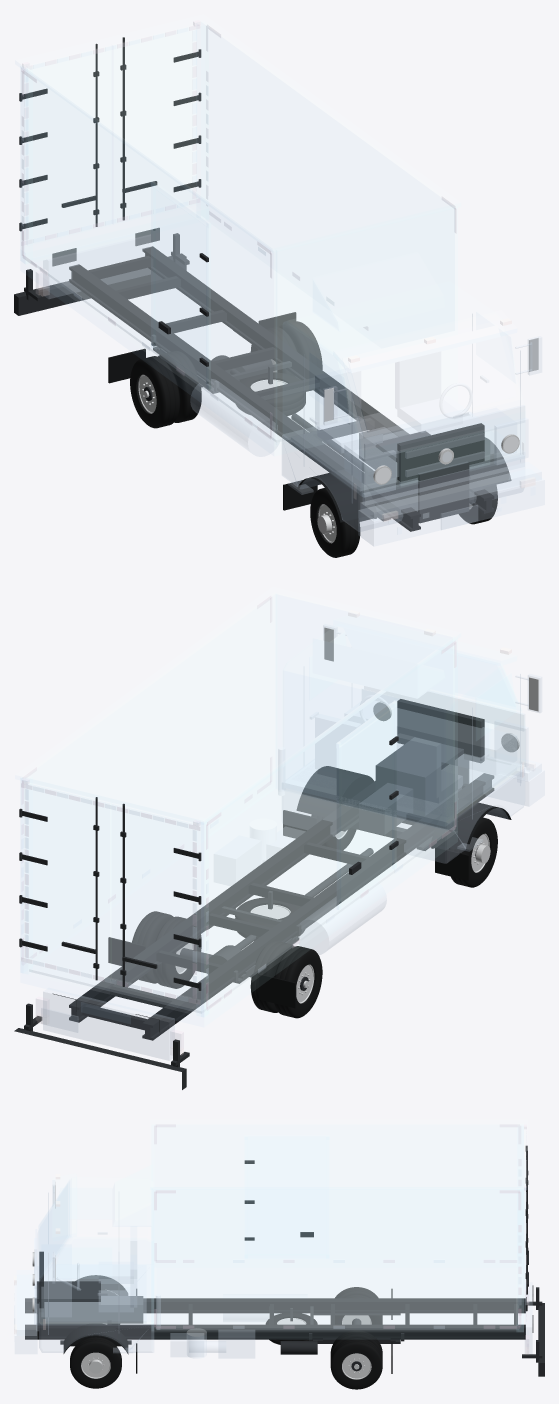
The model's file is vw_delivery_hag_raiox.glb.
3 views of the same model, one above another, from view 1: azimuth 30°, elevation 25°; view 2: azimuth 150°, elevation 25°; view 3: azimuth 270°, elevation 25° (orthographic). The views are drawn at different scales.
Visible parts, largest first — view 1: Floor, Cab_Skirt, Rail_Flange_Top (×2), Tire (×5), Front_Bumper, Seat_Back (×2), Rail_Web (×2), Engine, Dashboard, Front_Bumper_Lip, Crossmember (×5), Radiator (+12 smaller); view 2: Floor, Cab_Skirt, Rail_Flange_Top (×2), Tire (×6), Rear_Panel, Engine, Dashboard, Crossmember (×6), Rail_Web (×2), Wheel_Arch_Liner (×2), Seat_Back (×2), Radiator (+12 smaller); view 3: Floor, Cab_Skirt, Rail_Flange_Top (×2), Rail_Web (×2), Tire (×4), Cab_Floor, Rail_Flange_Bottom (×2), Engine, Dashboard, Front_Bumper, Seat_Base (×2), Wheel_Arch_Liner (×2) (+11 smaller).
Boxes of the visible parts, bbox=[...] form: Floor: bbox=[31, 218, 380, 442]; Cab_Skirt: bbox=[282, 396, 524, 531]; Rail_Flange_Top (×2): bbox=[69, 246, 494, 519]; Tire (×5): bbox=[130, 321, 360, 557]; Front_Bumper: bbox=[358, 469, 544, 546]; Seat_Back (×2): bbox=[315, 352, 440, 430]; Rail_Web (×2): bbox=[71, 253, 491, 529]; Engine: bbox=[375, 431, 469, 523]; Dashboard: bbox=[344, 408, 516, 484]; Front_Bumper_Lip: bbox=[360, 462, 541, 520]; Crossmember (×5): bbox=[88, 256, 374, 441]; Radiator: bbox=[397, 423, 484, 487]; Floor: bbox=[29, 788, 448, 1013]; Cab_Skirt: bbox=[282, 754, 524, 863]; Rail_Flange_Top (×2): bbox=[69, 773, 493, 1027]; Tire (×6): bbox=[132, 817, 497, 1018]; Rear_Panel: bbox=[43, 988, 174, 1060]; Engine: bbox=[375, 737, 468, 816]; Dashboard: bbox=[345, 701, 516, 774]; Crossmember (×6): bbox=[82, 842, 368, 1030]; Rail_Web (×2): bbox=[71, 780, 491, 1038]; Wheel_Arch_Liner (×2): bbox=[296, 766, 511, 852]; Seat_Back (×2): bbox=[315, 714, 440, 797]; Radiator: bbox=[397, 699, 484, 762]; Floor: bbox=[156, 1267, 518, 1329]; Cab_Skirt: bbox=[39, 1264, 153, 1352]; Rail_Flange_Top (×2): bbox=[25, 1298, 525, 1330]; Rail_Web (×2): bbox=[25, 1304, 525, 1336]; Tire (×4): bbox=[70, 1312, 382, 1389]; Cab_Floor: bbox=[45, 1265, 146, 1322]; Rail_Flange_Bottom (×2): bbox=[25, 1310, 525, 1339]; Engine: bbox=[36, 1281, 100, 1324]; Dashboard: bbox=[41, 1244, 71, 1316]; Front_Bumper: bbox=[15, 1275, 37, 1353]; Seat_Base (×2): bbox=[99, 1262, 133, 1311]; Wheel_Arch_Liner (×2): bbox=[63, 1275, 128, 1354].
Size of the model in its own units: 2.72 by 3.4 by 7.84.
